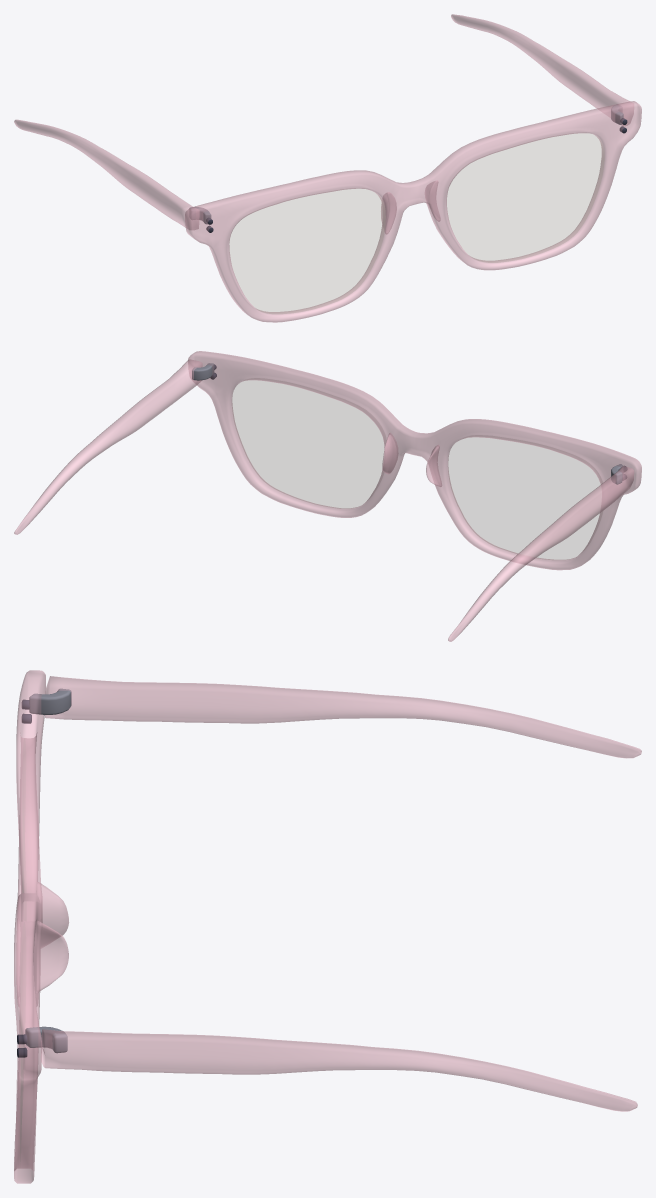
Rendered from jax_test_5.glb.
3 views of the same model, one above another, from view 1: azimuth 30°, elevation 25°; view 2: azimuth 150°, elevation 25°; view 3: azimuth 270°, elevation 25° (orthographic). The views are drawn at different scales.
Visible parts, largest first — view 1: model 5; view 2: model 5; view 3: model 5.
Part boxes in pixels (x1,y1,x2,y2): model 5: [14, 14, 641, 322]; model 5: [14, 351, 641, 641]; model 5: [14, 670, 641, 1183].
Bounding box in the file's own units: 3.59 × 1.03 × 2.59.
